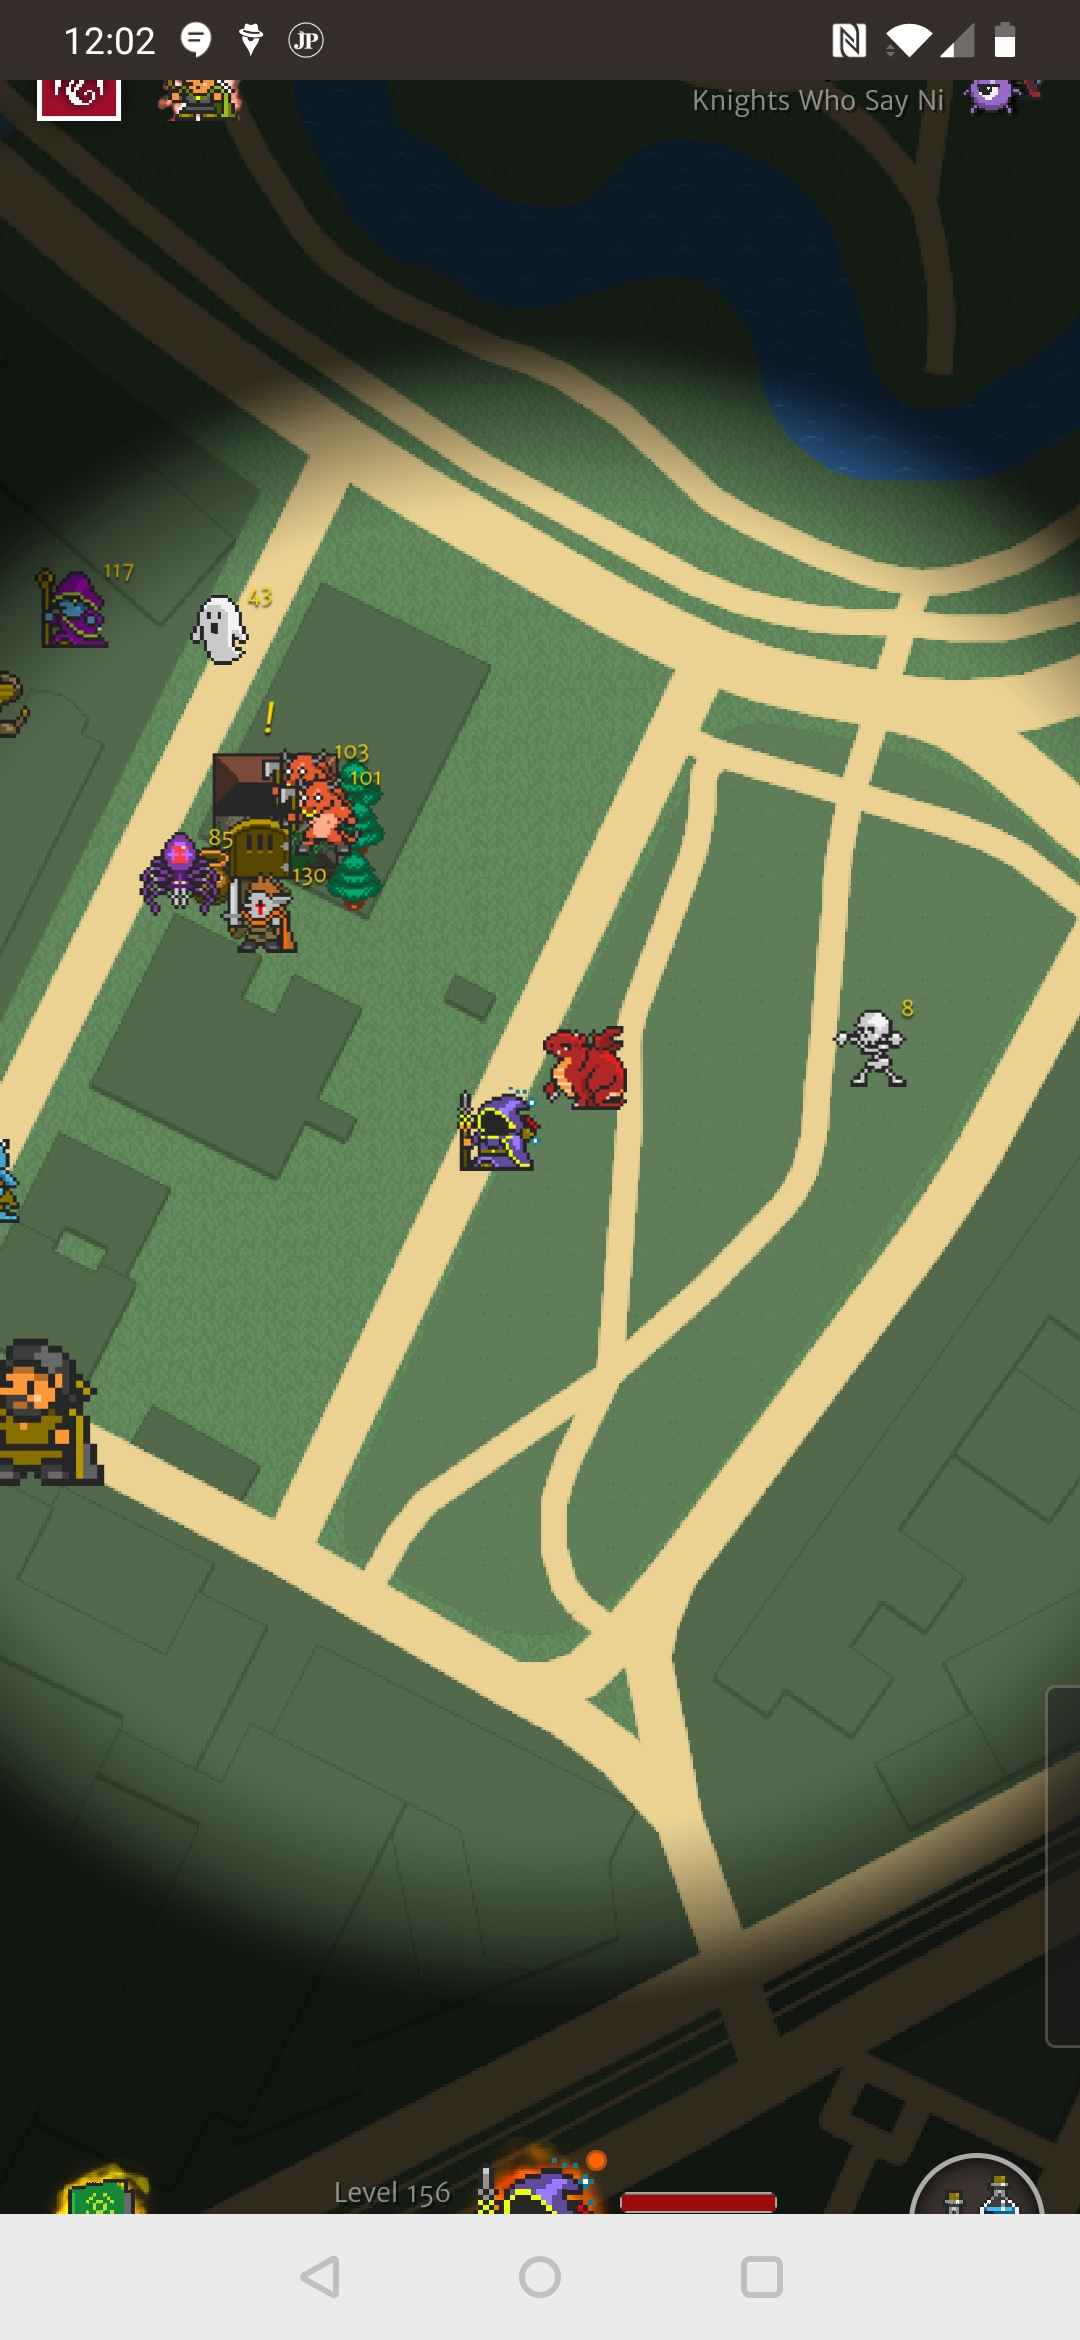monster: (26, 558, 146, 665), (829, 989, 939, 1096), (177, 582, 284, 678)
player: (450, 1082, 563, 1182)
